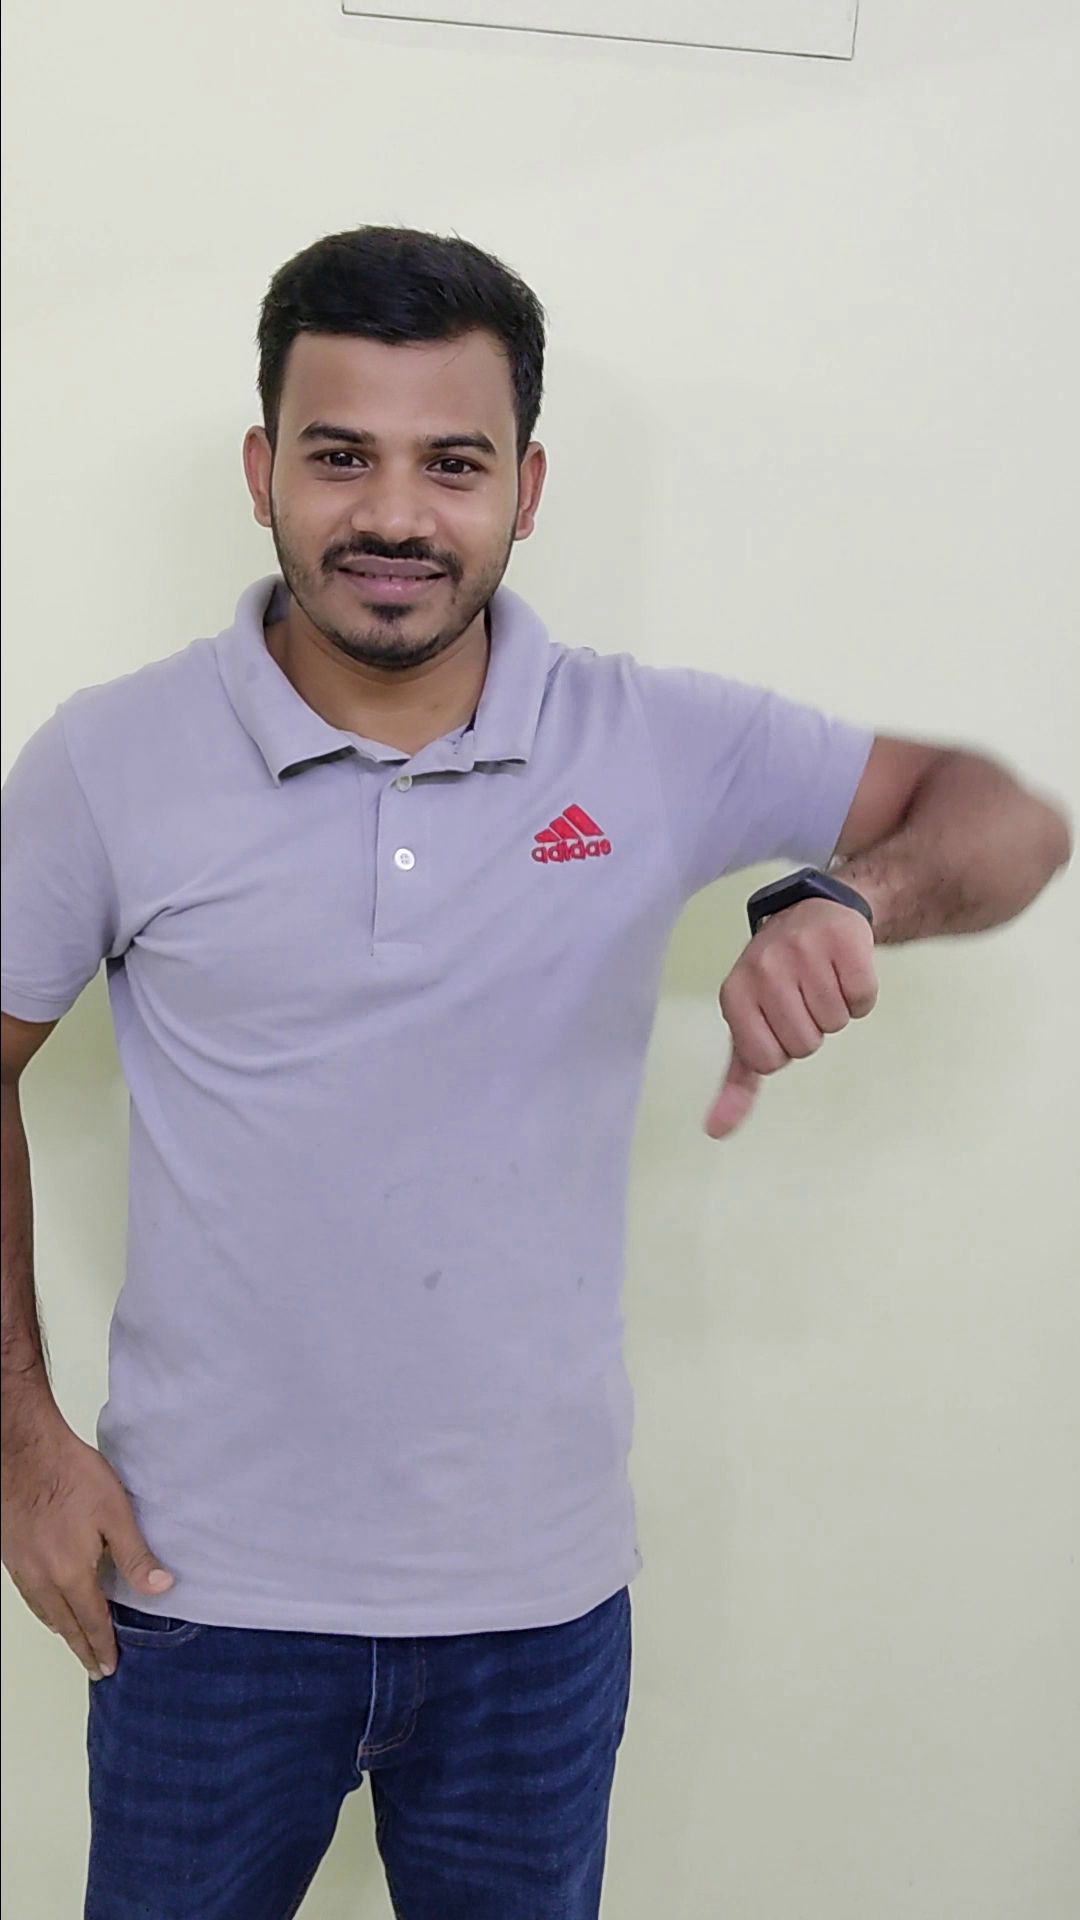Dislike: (654, 852, 926, 1159)
None: (3, 1393, 189, 1683)
